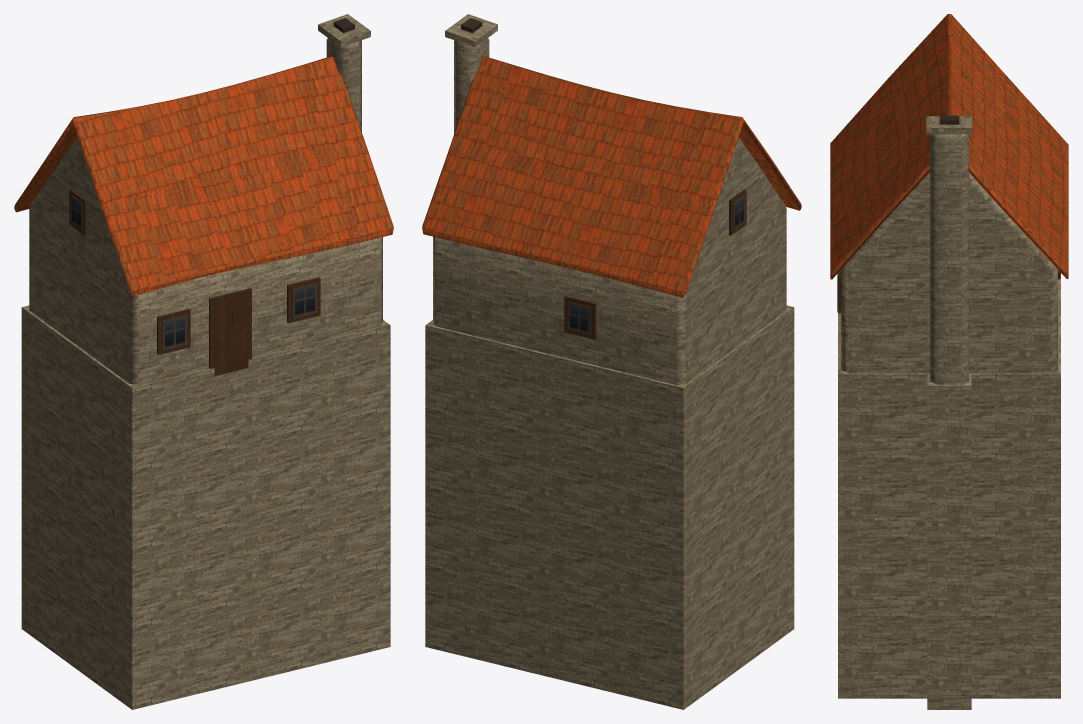
The model's file is cottage_a.glb.
The picture shows the model from 3 angles, left to right: view 1: azimuth 30°, elevation 25°; view 2: azimuth 150°, elevation 25°; view 3: azimuth 270°, elevation 25°; orthographic projection.
Visible parts, largest first — view 1: cottage_a_export; view 2: cottage_a_export; view 3: cottage_a_export.
Boxes of the visible parts, x1,y1,x2,y2 form: cottage_a_export: (14, 14, 393, 709); cottage_a_export: (422, 14, 801, 709); cottage_a_export: (830, 14, 1068, 709).
Bounding box in the file's own units: 17 × 32.86 × 12.12.
Materials: 4 (4 with a texture image).
